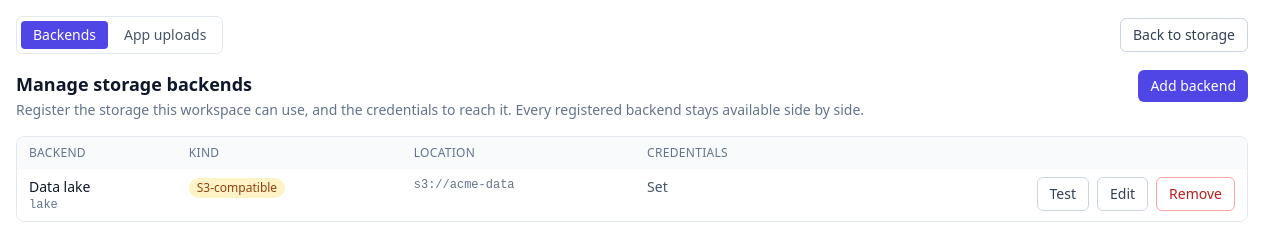
Test: App uploads tab › lists live grants with their backend, folder, extensions and size
Click the tab "App uploads". click: (165, 35)
box: [112,21,218,49]
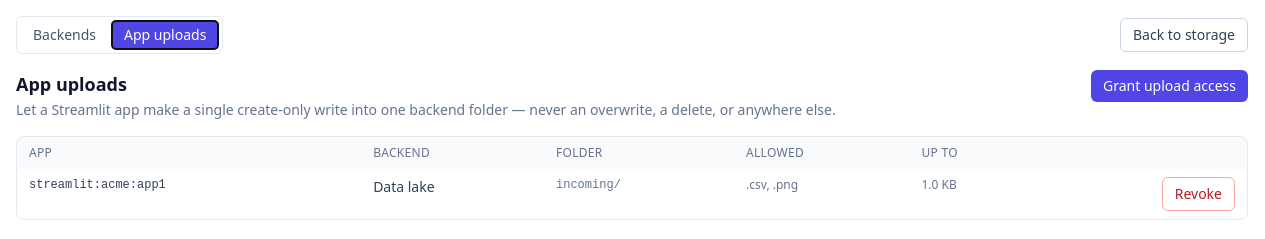
Now the row that starts with "streamlit:acme:app1" is shown, box [29,178,166,192]
Now the row that starts with "streamlit:acme:app1" shows "incoming/", box [556,178,621,192]
Now the row that starts with "streamlit:acme:app1" shows ".csv, .png", box [746,176,798,193]
